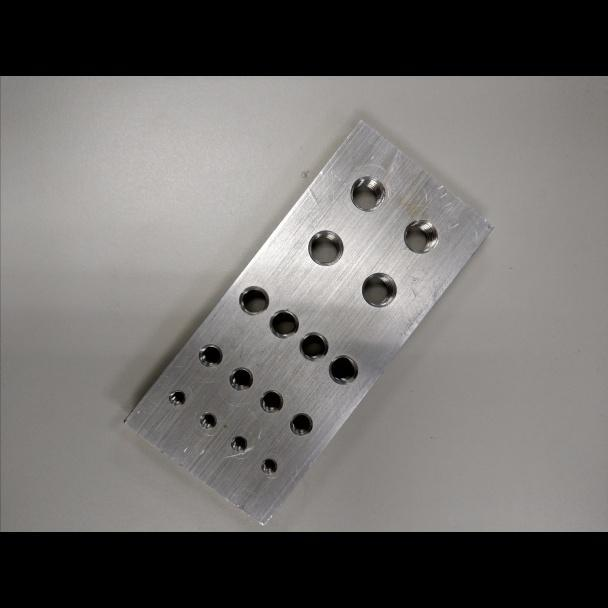hole: (360, 270, 398, 309), (307, 229, 345, 268), (350, 175, 387, 213), (402, 218, 439, 255), (237, 284, 269, 317), (268, 308, 300, 340), (328, 354, 359, 386), (298, 331, 329, 362), (197, 343, 223, 368), (289, 412, 313, 437), (228, 367, 253, 391), (259, 390, 283, 414), (167, 388, 186, 407), (229, 434, 248, 452), (199, 412, 217, 430), (260, 457, 277, 475)
